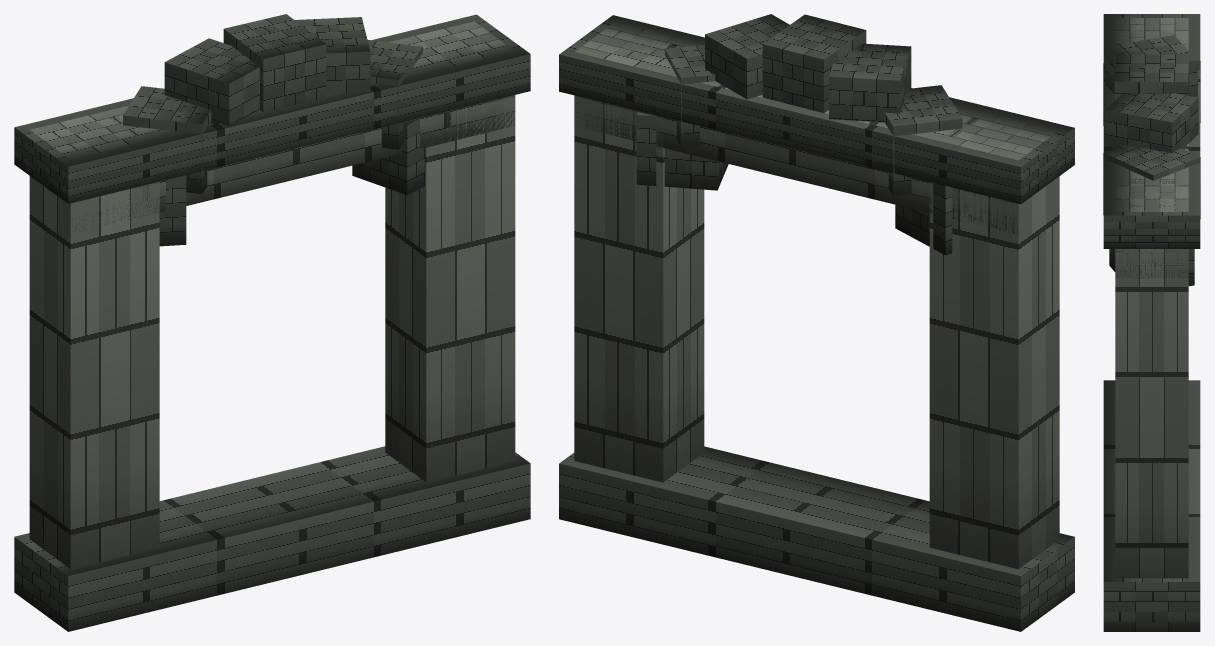
Rendered from wall_arch.gltf.
3 renders of one model, left to right at view 1: azimuth 30°, elevation 25°; view 2: azimuth 150°, elevation 25°; view 3: azimuth 270°, elevation 25°, orthographic. The views are drawn at different scales.
Visible parts, largest first — view 1: wall_arch; view 2: wall_arch; view 3: wall_arch.
Part boxes in pixels (x1,y1,x2,y2): wall_arch: (14,14,530,631); wall_arch: (559,14,1074,631); wall_arch: (1103,14,1200,631).
Size of the model in its own units: 1.04 by 1.11 by 0.2121.
1 material, 1 textured.
